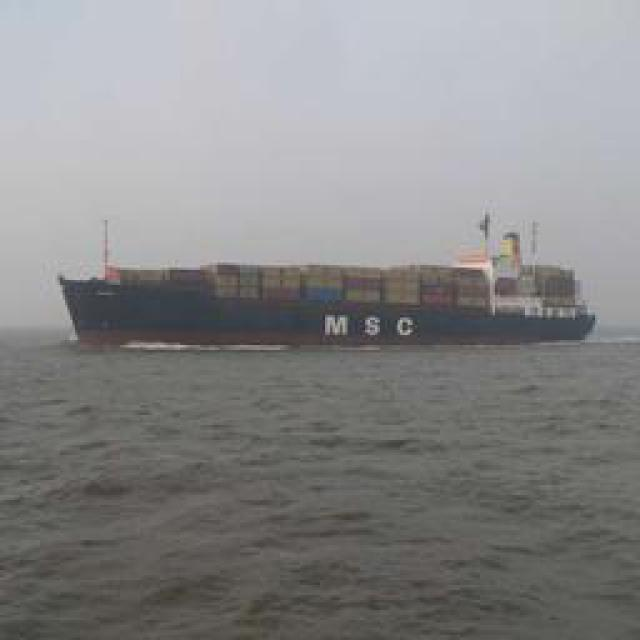Ship: (70, 241, 600, 349)
